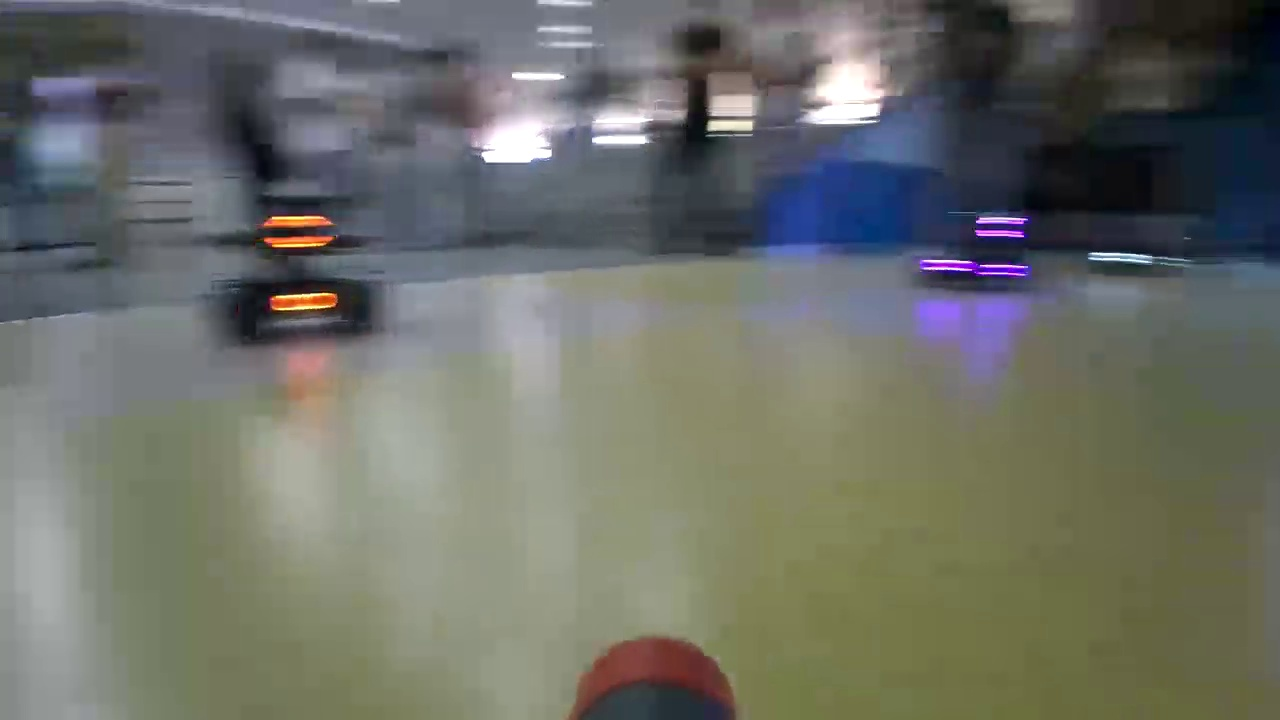robot: (232, 196, 374, 334), (916, 212, 1034, 296)
